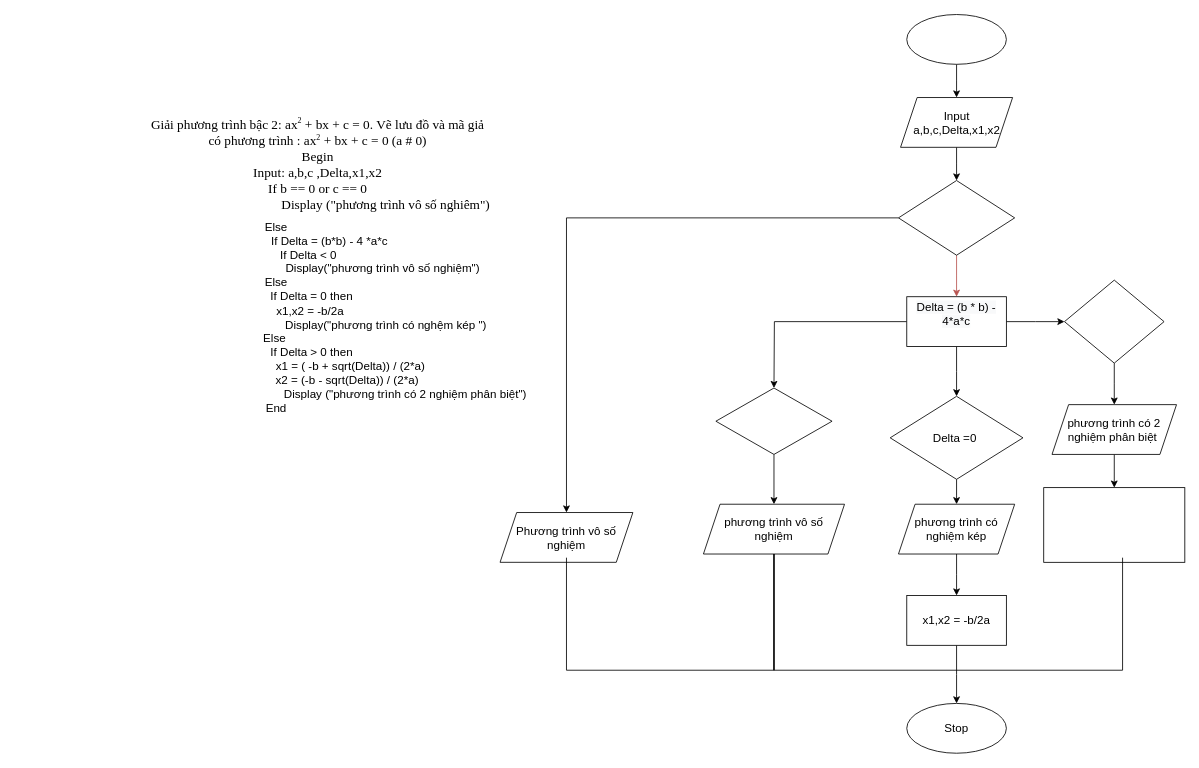
Some shapes in this 1199 by 768 pixel diagram are drawn without their labels. Here are the shapes that lost their labels. From the top down, the centre of each, then its label:
At [956,39]: "Start".
At [956,217]: "b == 0 or c ==0".
At [1114,321]: "Delta > 0".
At [773,420]: "Delta < 0".
At [1114,524]: "x1 = ( -b + sqrt(Delta)) / (2*a) x2 = (-b - sqrt(Delta)) / (2*a)".
